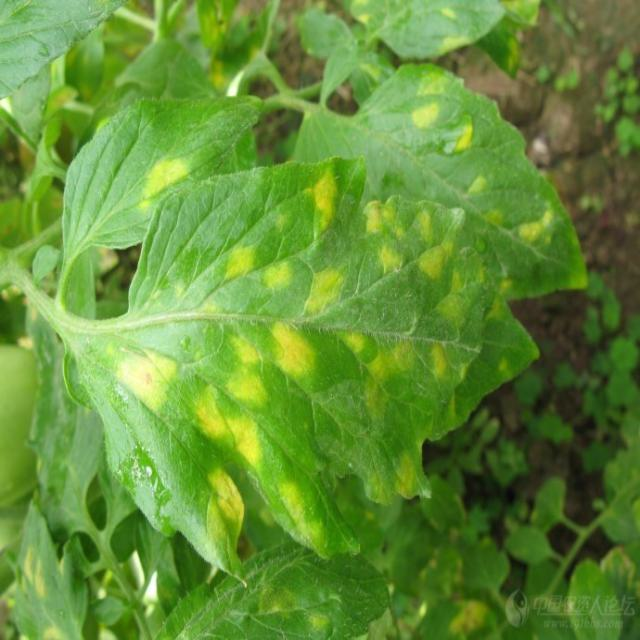Leaf_Mold: (194, 319, 333, 560), (360, 197, 491, 332), (107, 339, 180, 419), (348, 328, 414, 411), (212, 232, 291, 296), (362, 444, 418, 507), (133, 152, 188, 211), (304, 164, 343, 238), (442, 593, 490, 640), (510, 200, 558, 246), (305, 260, 341, 316), (20, 542, 48, 598), (408, 102, 445, 132), (454, 117, 476, 159), (429, 342, 451, 381)
